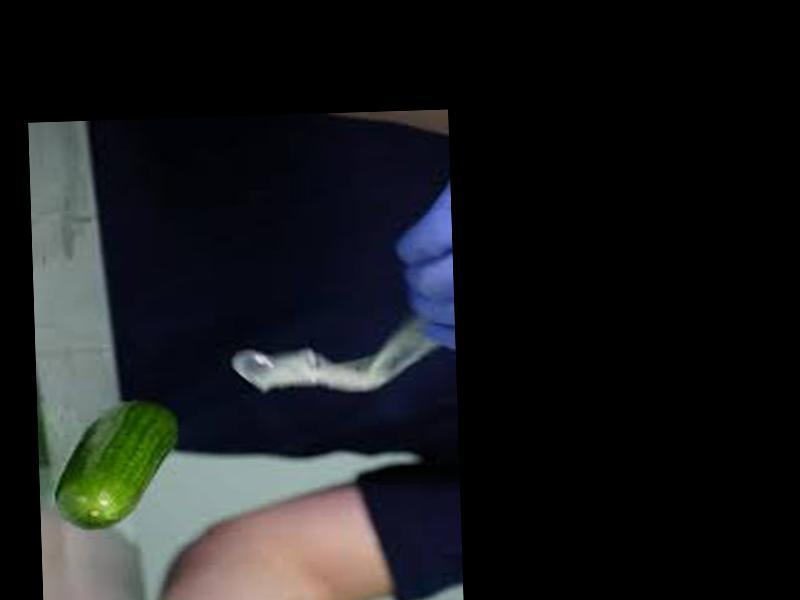Cucumber: (51, 400, 180, 531)
